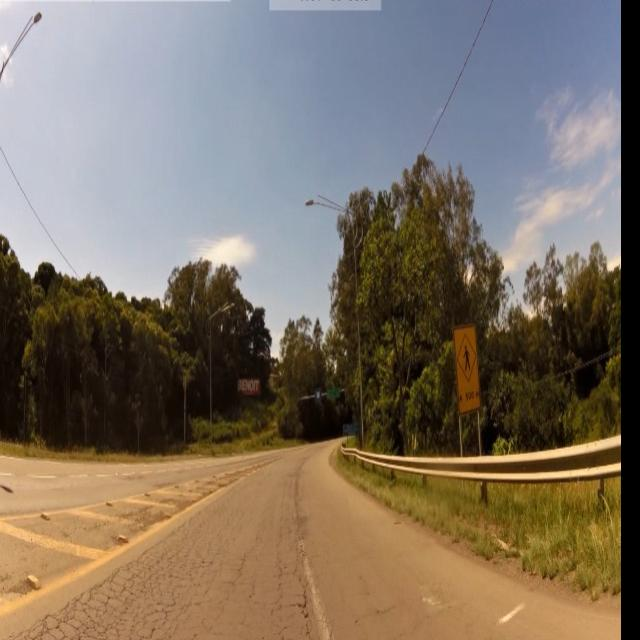A-32a: (455, 336, 479, 380)
